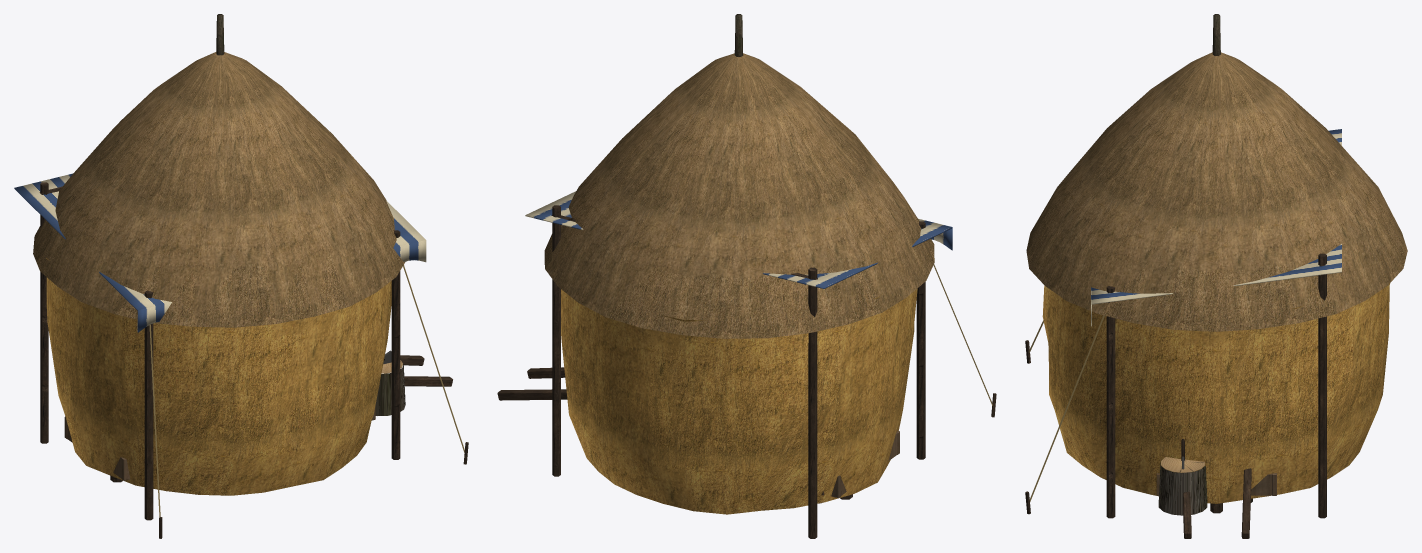
File: props_england.glb
3 renders of one model, left to right at view 1: azimuth 30°, elevation 25°; view 2: azimuth 150°, elevation 25°; view 3: azimuth 270°, elevation 25°, orthographic. The views are drawn at different scales.
Visible parts, largest first — view 1: haystack_mesh, cloth_awning_mesh, woodpile_mesh, cart_mesh; view 2: haystack_mesh, cloth_awning_mesh, cart_mesh; view 3: haystack_mesh, cloth_awning_mesh, woodpile_mesh, cart_mesh, vegetable_bed_mesh.
Part boxes in pixels (x1,y1,x2,y2): haystack_mesh: [33, 14, 405, 495]; cloth_awning_mesh: [14, 173, 468, 538]; woodpile_mesh: [375, 350, 405, 415]; cart_mesh: [400, 355, 452, 386]; haystack_mesh: [544, 14, 934, 514]; cloth_awning_mesh: [525, 191, 996, 538]; cart_mesh: [497, 367, 567, 400]; haystack_mesh: [1026, 14, 1407, 503]; cloth_awning_mesh: [1025, 129, 1341, 518]; woodpile_mesh: [1158, 439, 1252, 515]; cart_mesh: [1182, 468, 1251, 538]; vegetable_bed_mesh: [1156, 473, 1276, 495].
Size of the model in its own units: 4.6 by 5.1 by 3.97.
Materials: 16 (11 with a texture image).
